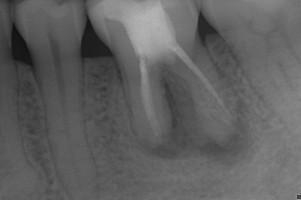Dental Caries: (153, 67, 250, 164)
